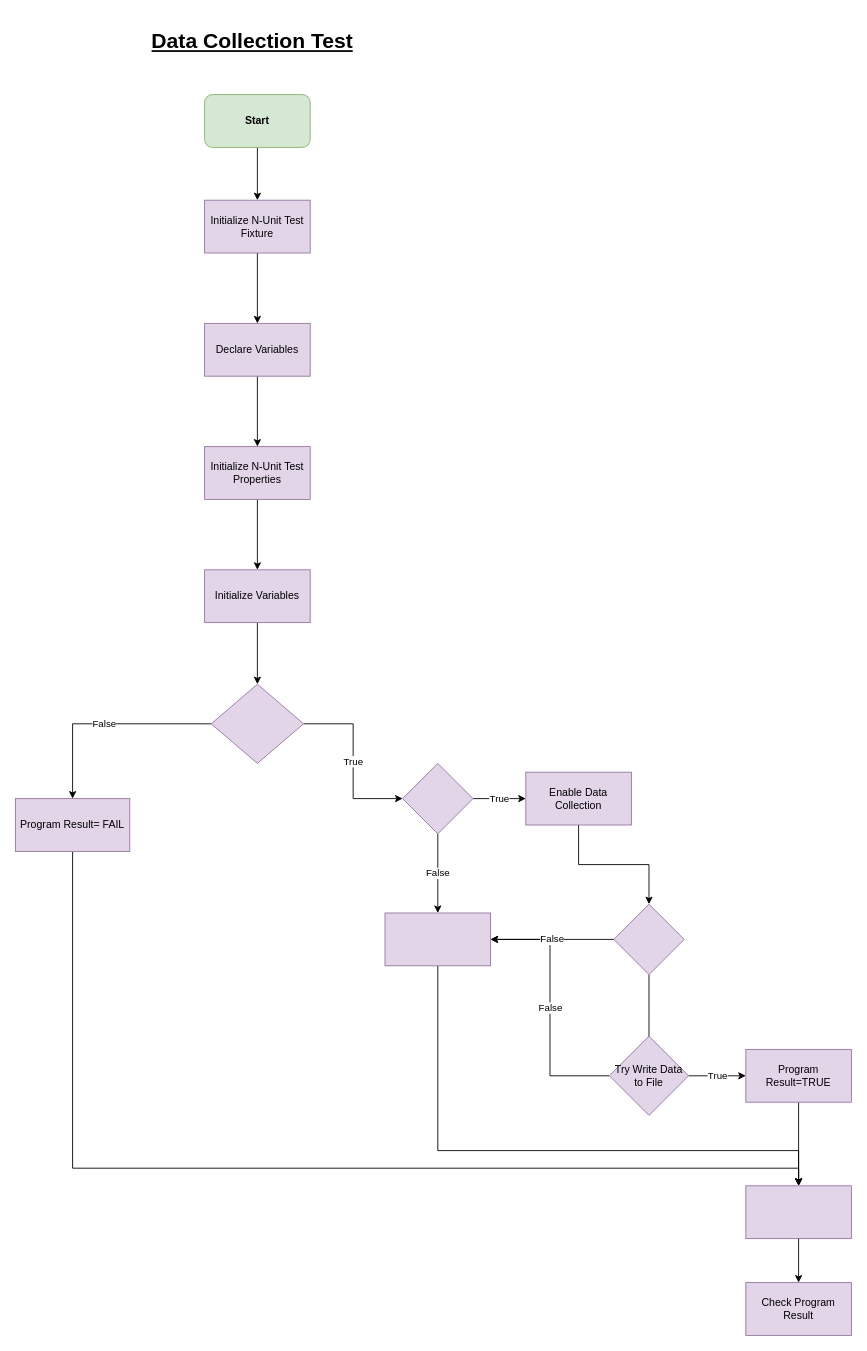
Image size: 867x1351. Some labels were removed from this diagram. Here are the shapes that lost their labels. From the top down, the centre of each, then its label:
(257,723): Try Connection
(437,798): Try Robot Power ON
(437,939): Program Result=FAIL
(648,939): Try Robot Move
(798,1212): Return Program Result
